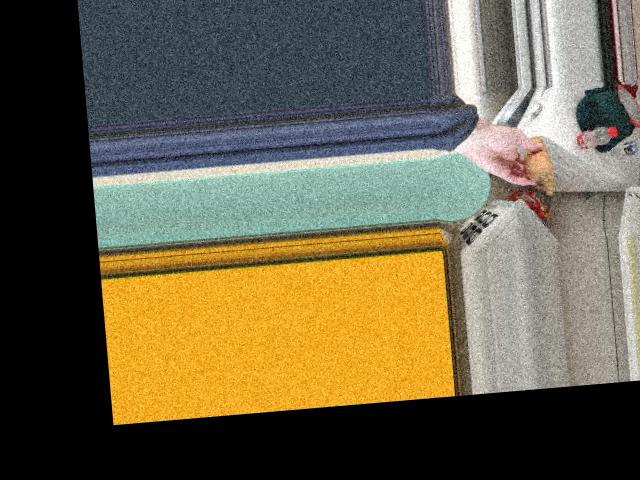sweet_potato: (525, 138, 554, 185)
